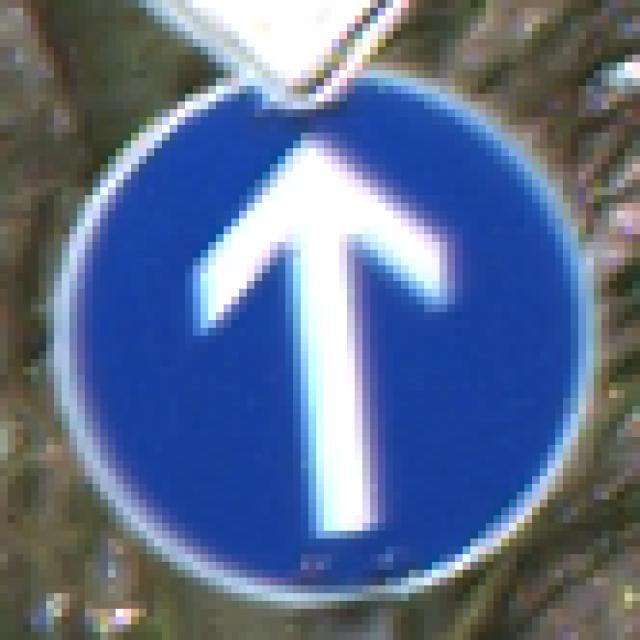compulsary ahead: (43, 50, 592, 614)
